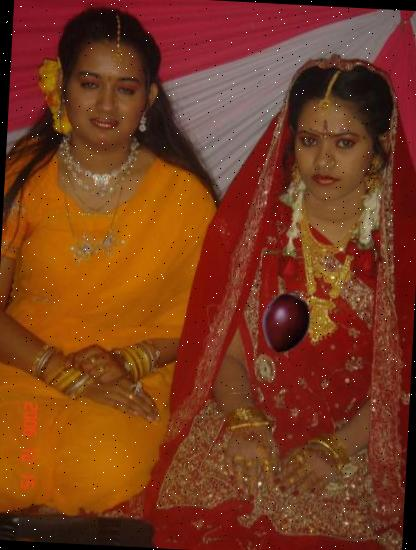Tamarillo: (253, 288, 320, 354)
